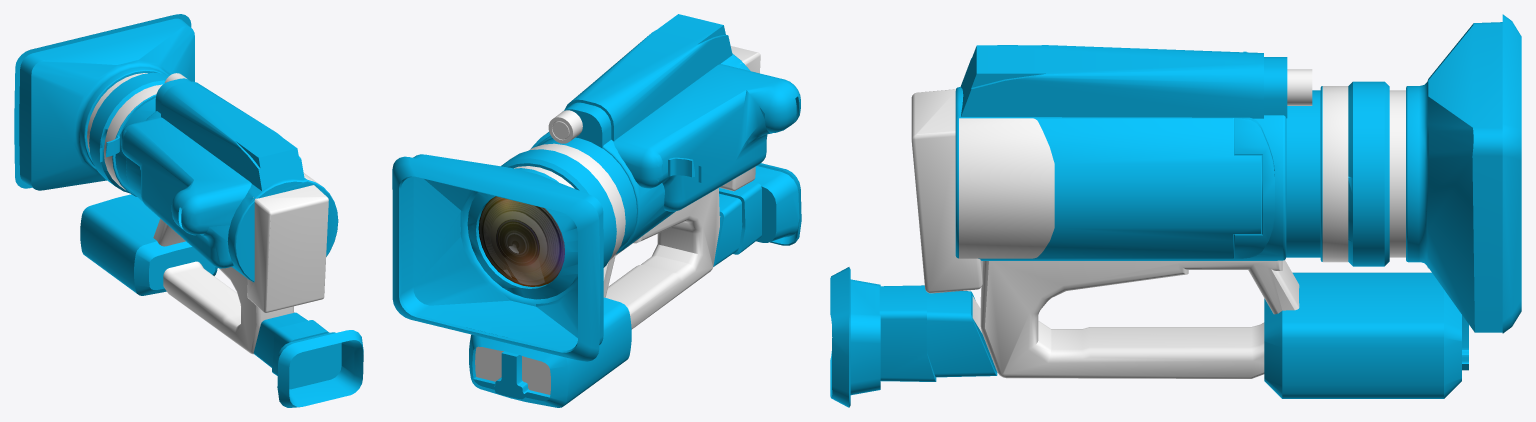
Rendered from camera.glb.
3 renders of one model, left to right at view 1: azimuth 30°, elevation 25°; view 2: azimuth 150°, elevation 25°; view 3: azimuth 270°, elevation 25°, orthographic. The views are drawn at different scales.
Visible parts, largest first — view 1: Object_4, Object_5; view 2: Object_4, Object_5, Object_9; view 3: Object_4, Object_5.
Boxes of the visible parts, x1,y1,x2,y2 form: Object_4: [14, 14, 363, 407]; Object_5: [87, 73, 328, 354]; Object_4: [392, 14, 801, 407]; Object_5: [475, 46, 760, 394]; Object_9: [478, 196, 564, 286]; Object_4: [830, 14, 1521, 407]; Object_5: [911, 69, 1405, 378].
Size of the model in its own units: 1.22 by 1.41 by 2.71.
3 materials, 1 textured.
